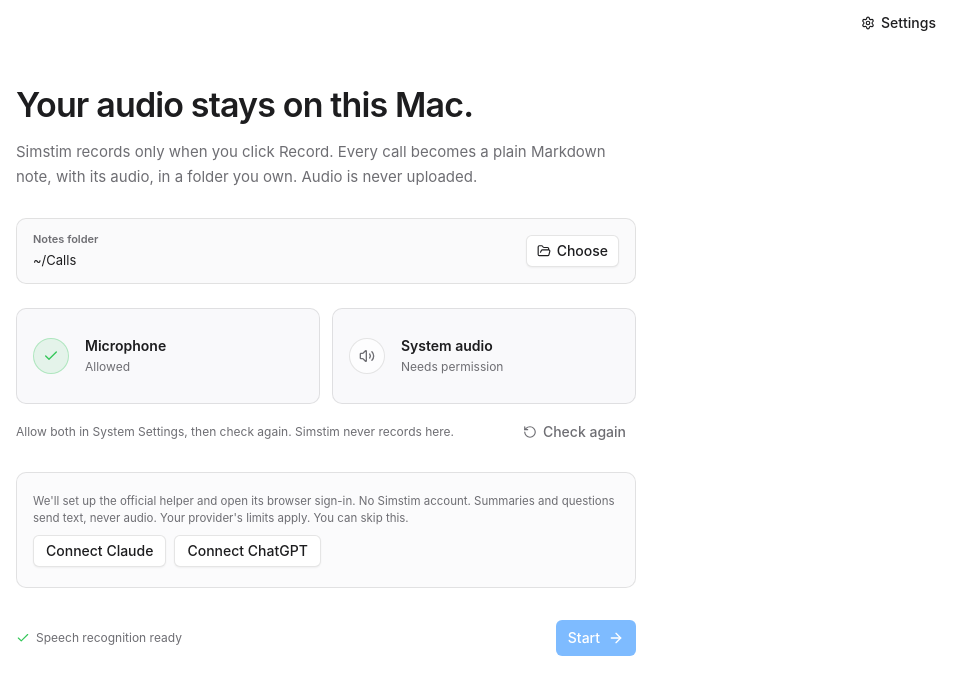
Test: Onboarding (one screen) › asks macOS for both permissions on entry and offers a retry until both pass
Check: the text "Needs permission" is shown, box [401,359,503,374]
Check: the button "Start" is disabled, box [556,620,636,656]
Click the button "Check again" at (574, 432), box [513,416,636,448]
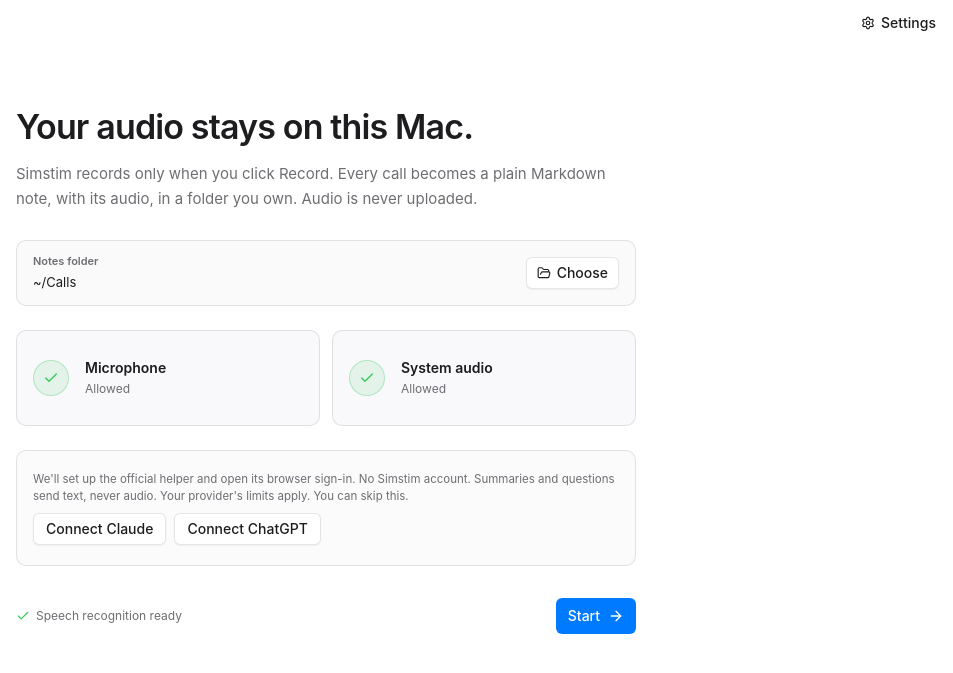
Check: the text "Allowed" is shown 2 times, box [85,381,130,396]; [401,381,446,396]
Check: the button "Start" is enabled, box [556,598,636,634]
